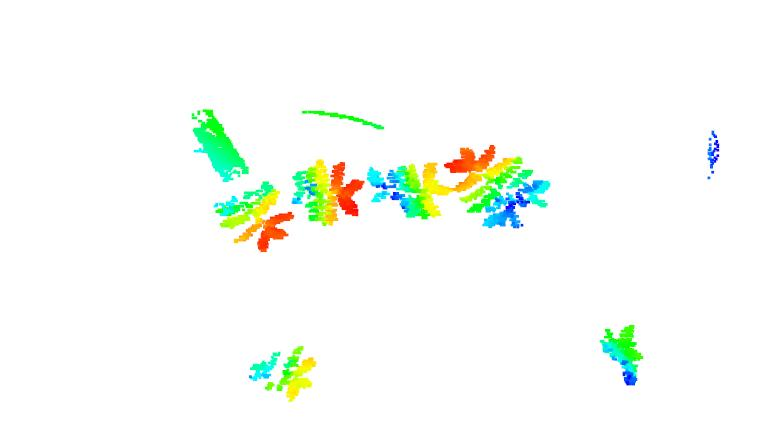chickpea: (446, 142, 550, 232), (214, 175, 293, 256), (365, 153, 452, 226), (292, 155, 363, 226), (250, 345, 318, 402), (602, 322, 646, 388)
